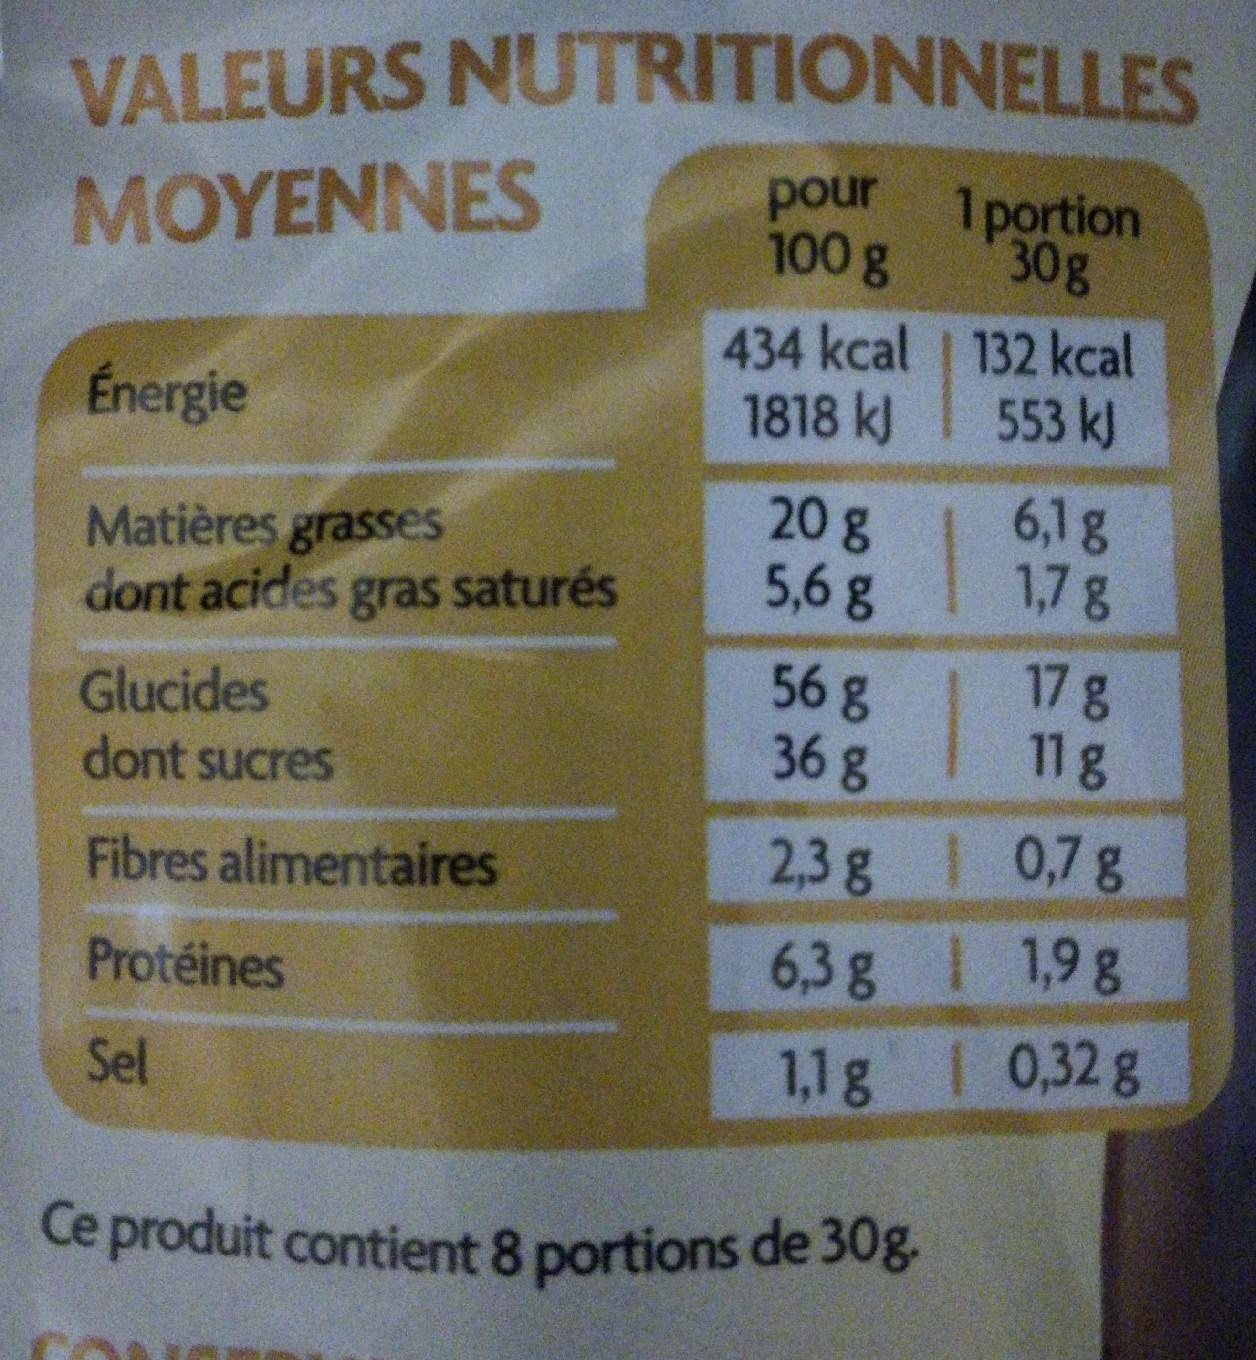column: (68, 345, 632, 1116), (960, 172, 1156, 1116), (728, 166, 914, 1110)
table: (43, 141, 1228, 1160)
